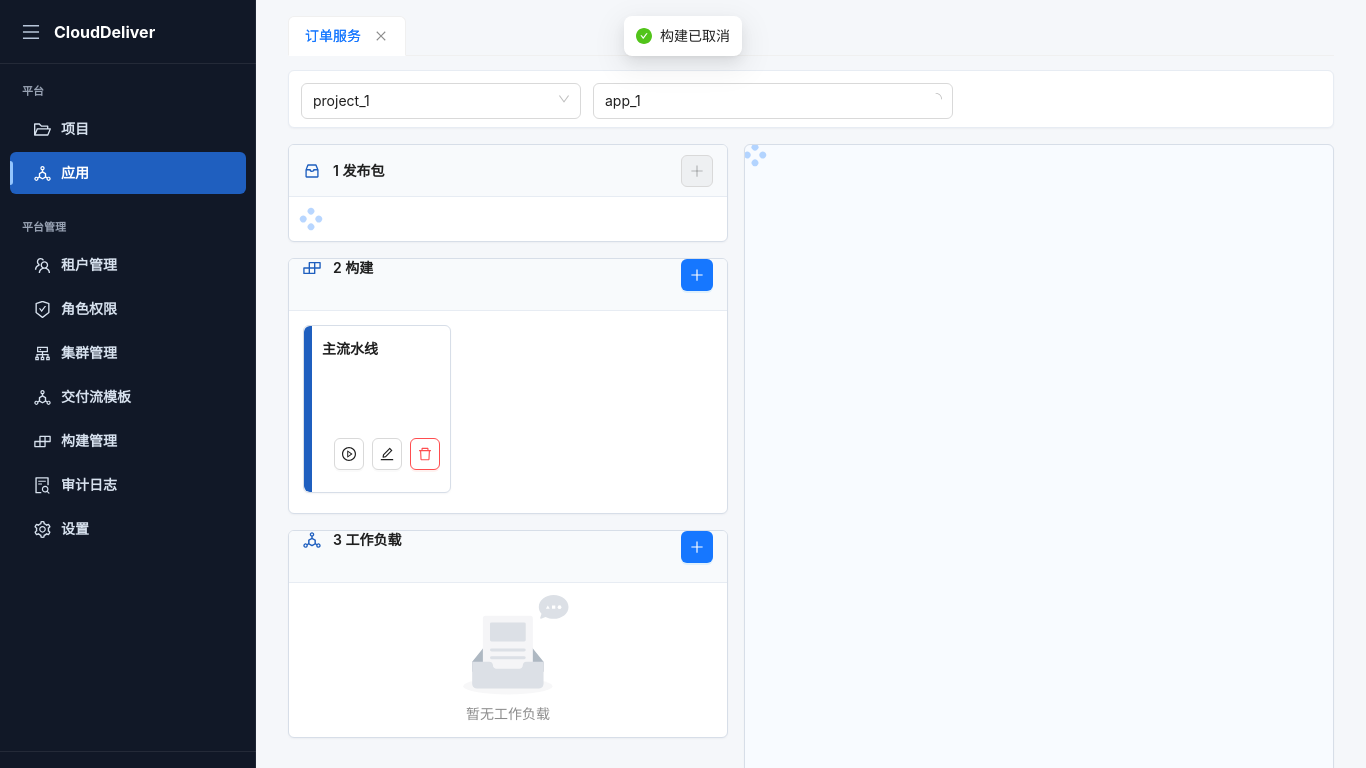
真实 API 创建 Workload 后使用服务端名称展示简化卡片
Expected: the element with test id "workload-panel" is shown, [288,530,728,738]
Click the button named "创建工作负载".
click(697, 547)  # box [681,531,713,563]
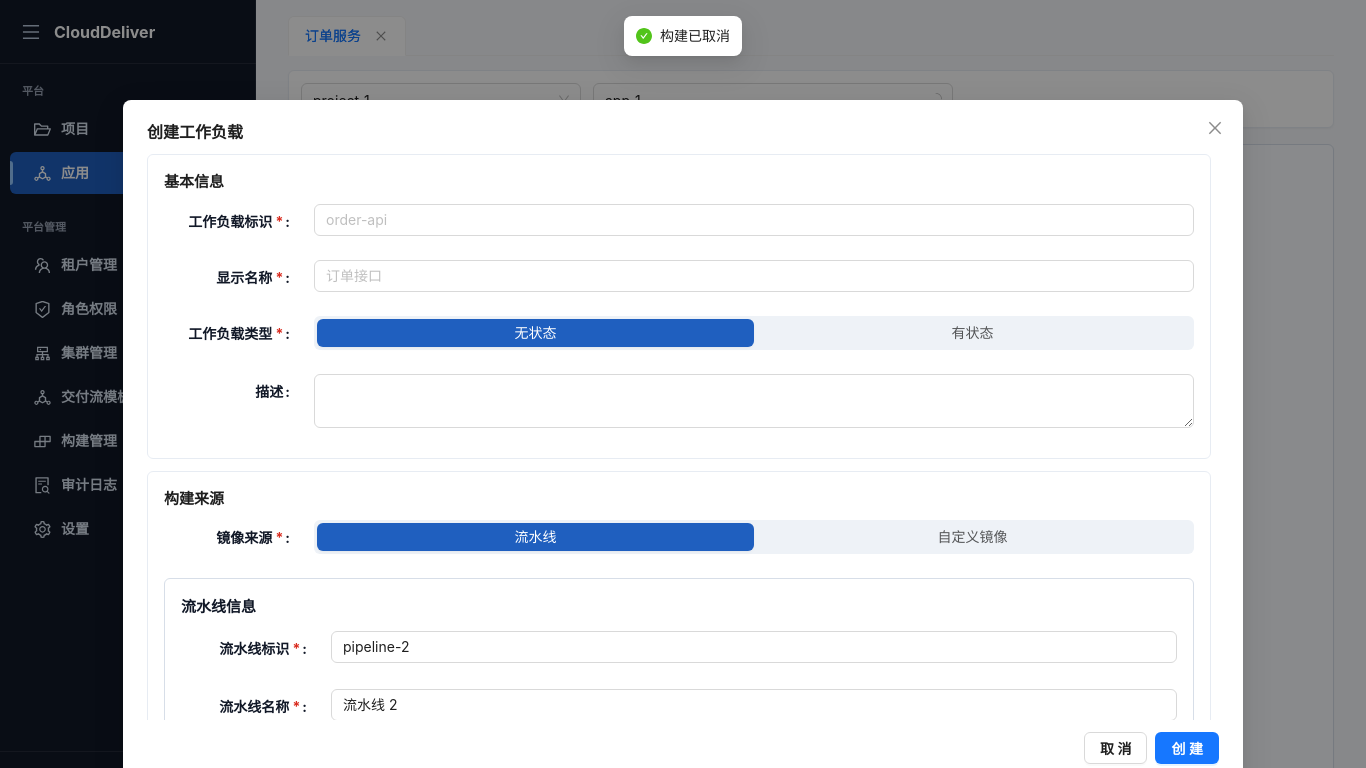
Type "order-worker" into the field labelled "工作负载标识".
click(754, 220); type("order-worker")  # box [314,204,1194,236]
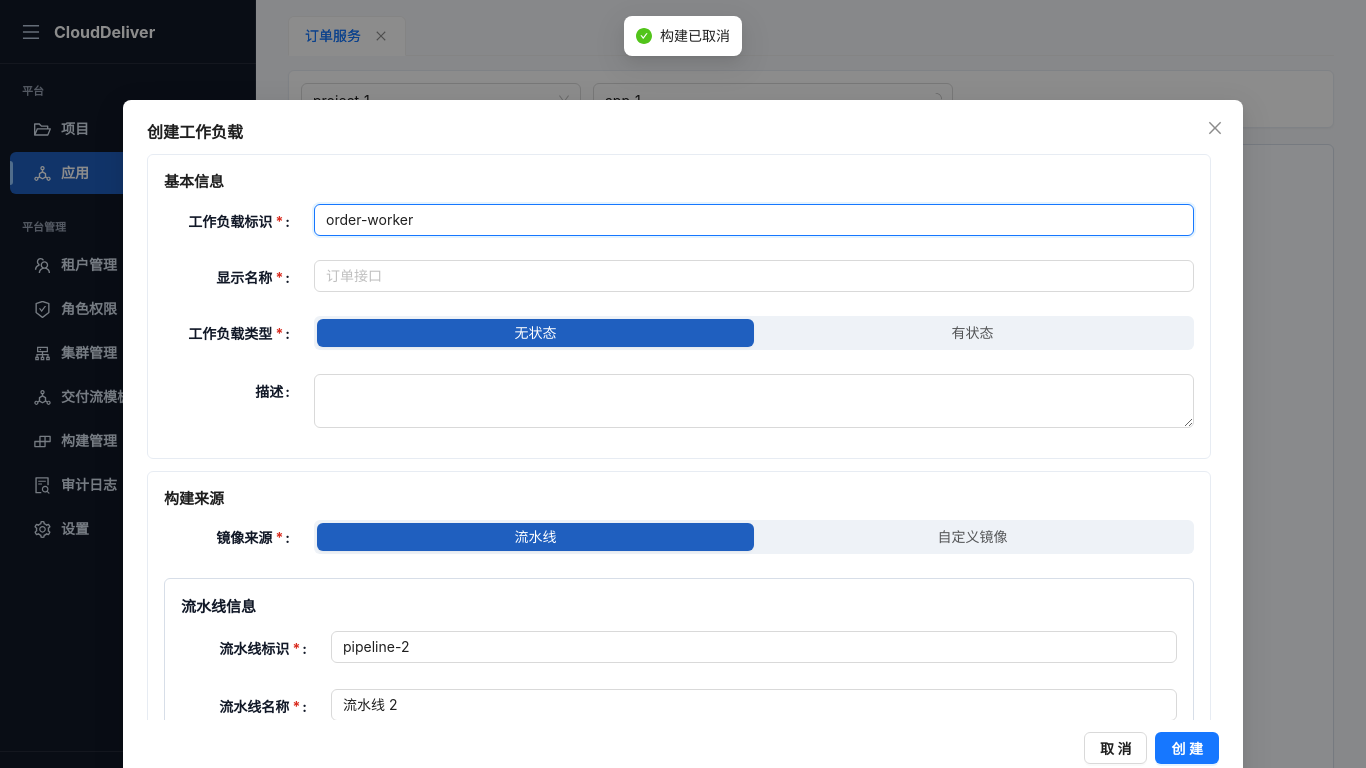
Type "订单任务" into the field labelled "显示名称".
click(754, 276); type("订单任务")  # box [314,260,1194,292]
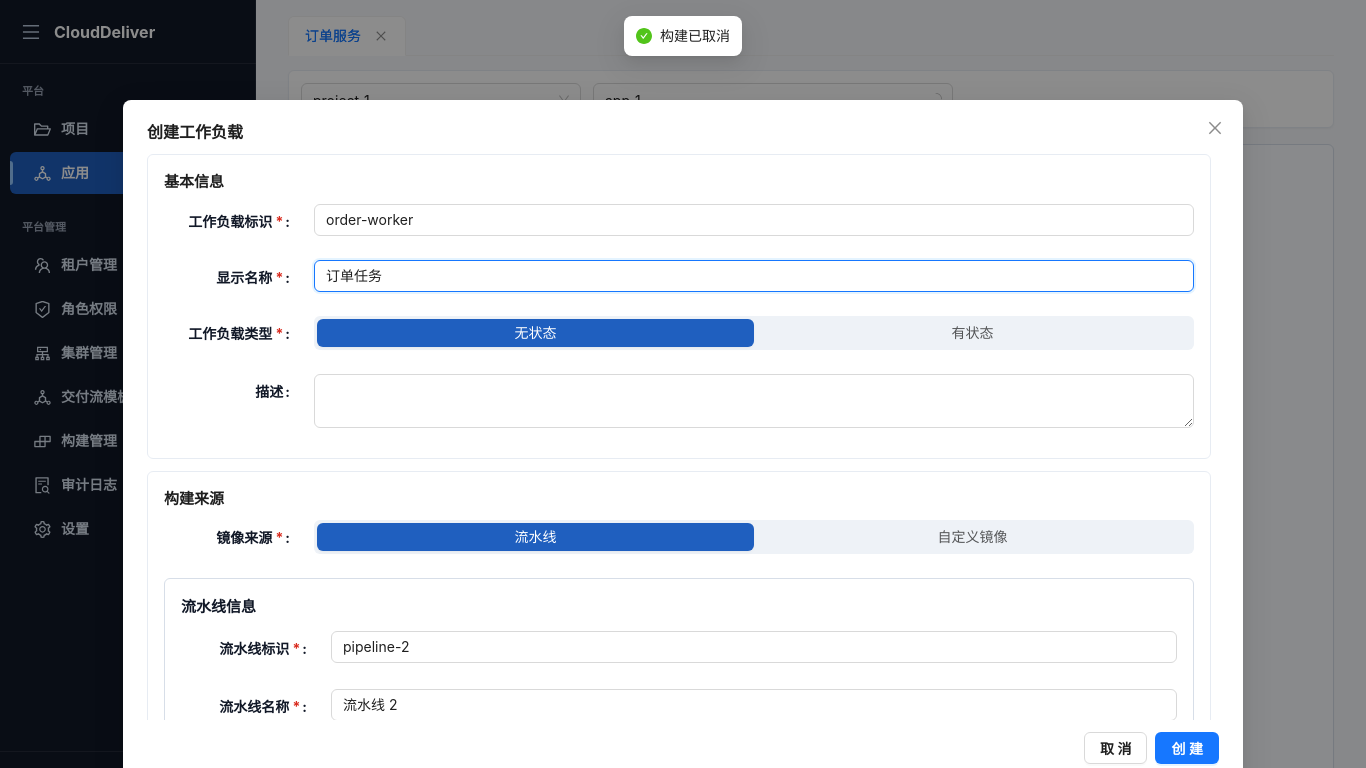
Click the text "有状态".
click(972, 332)  # box [952,324,994,340]
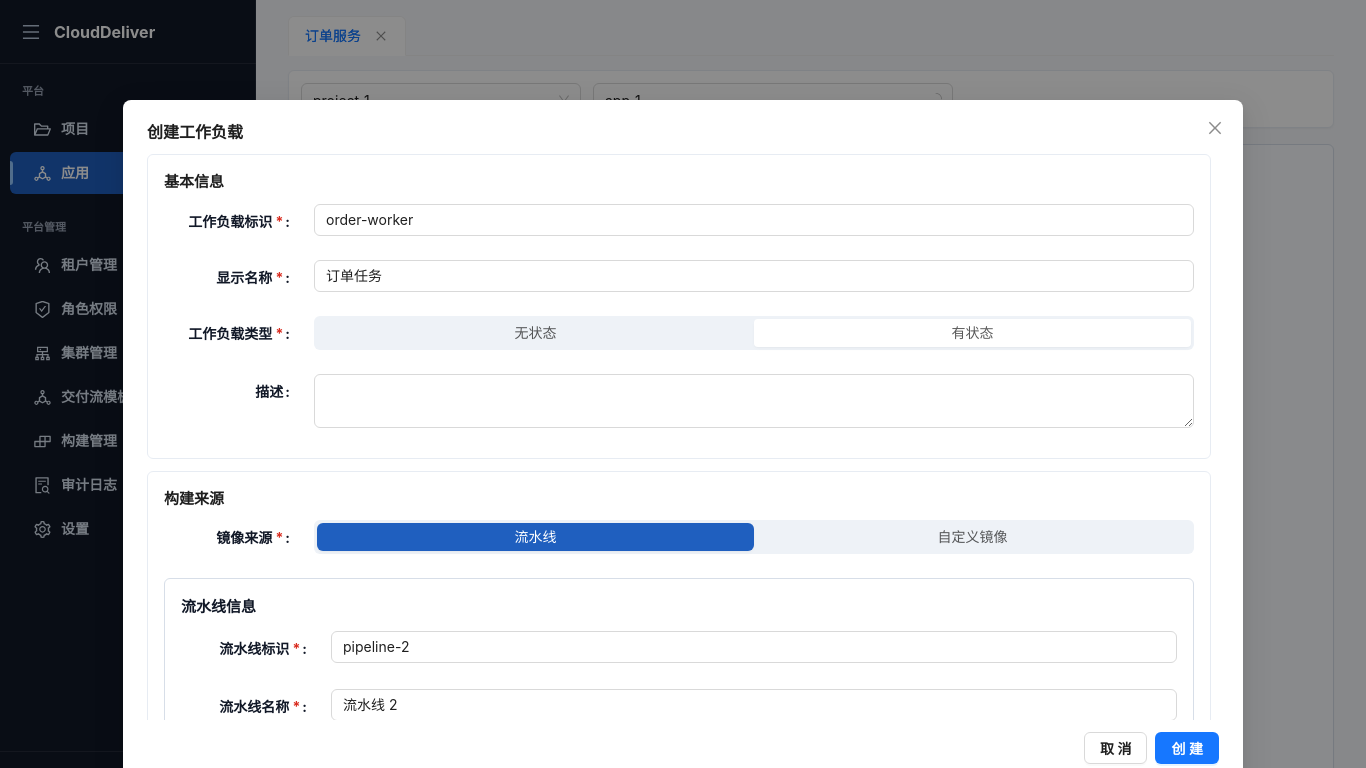
Expected: the text "流水线信息" is shown, [181,597,256,616]
Click the button named "创建".
click(1187, 748)  # box [1156,732,1219,764]
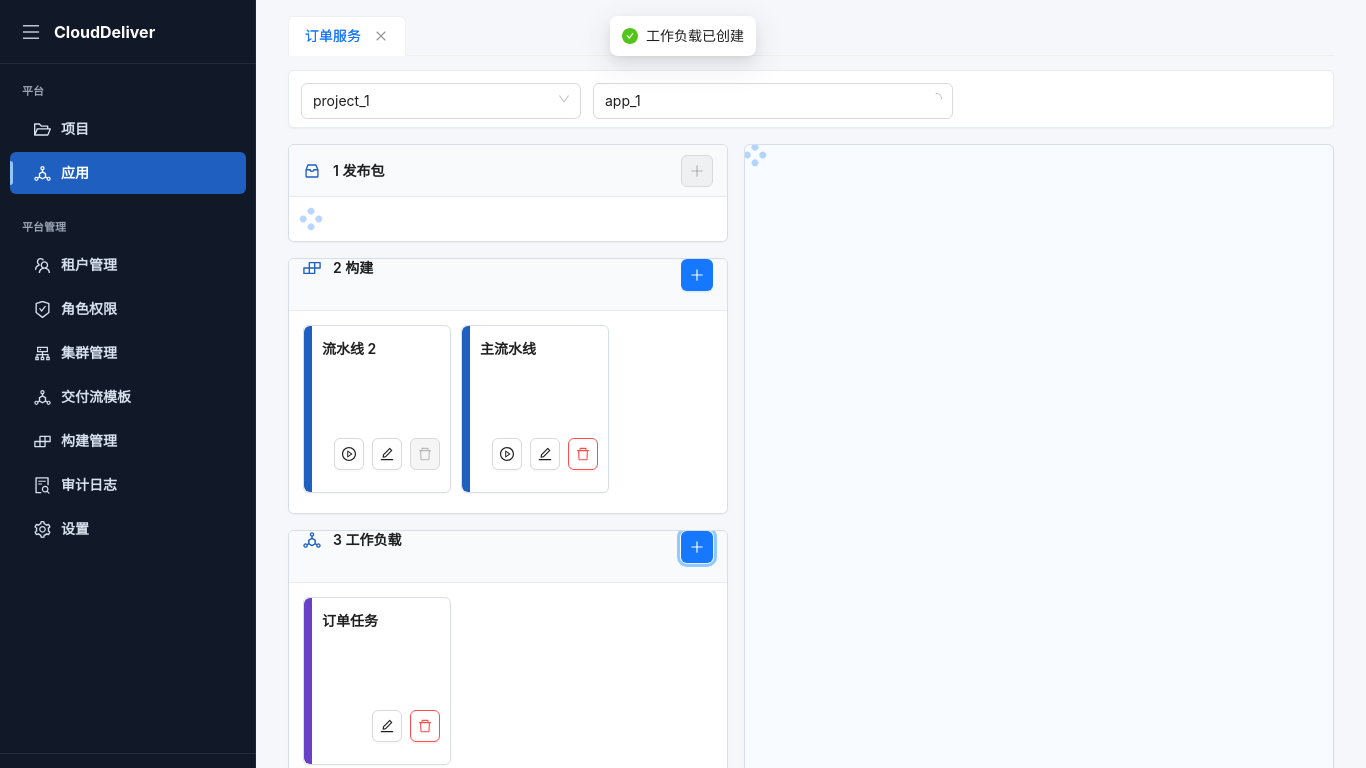
Expected: the button named "编辑" below "订单任务" is empty, [372,710,402,742]
Expected: the button named "删除" below "订单任务" is empty, [410,710,440,742]
Expected: the text "自定义镜像" is gone
